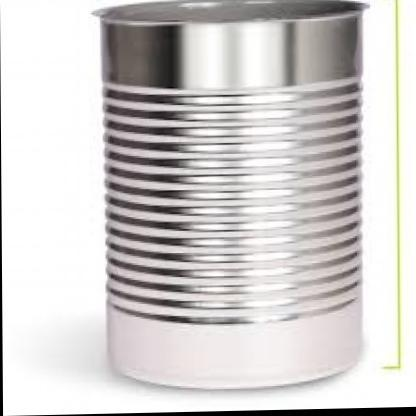trash: (95, 0, 363, 387)
